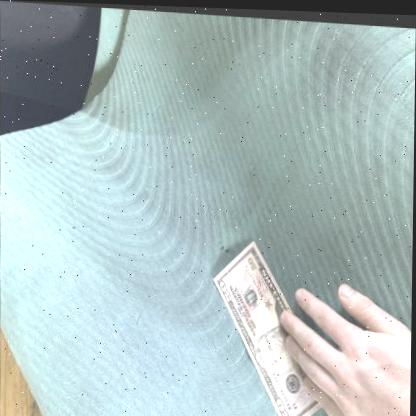dollar_front: (213, 234, 336, 416)
